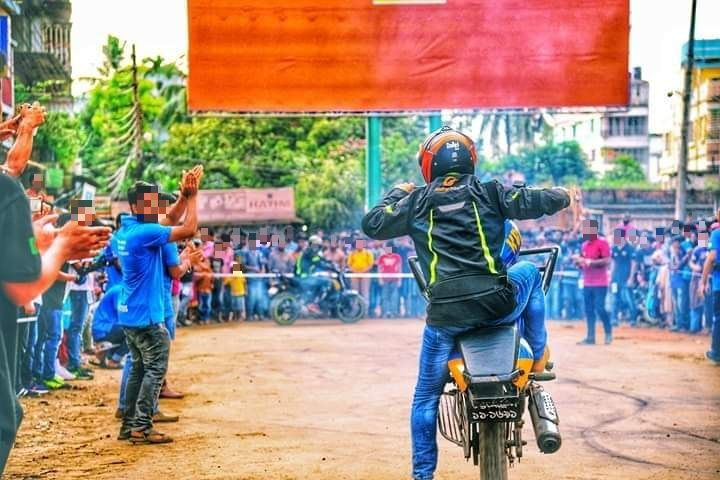bike: (400, 247, 561, 480), (267, 261, 366, 327)
